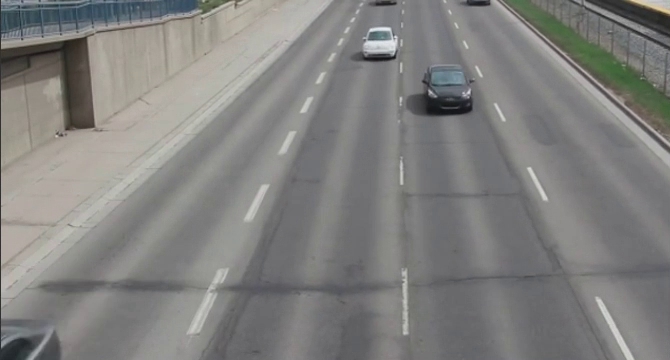car: (419, 65, 481, 116), (1, 312, 64, 360), (358, 22, 402, 65)
